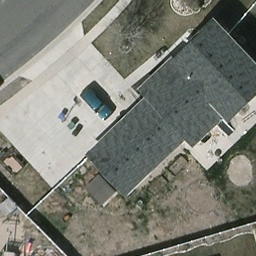car: (80, 88, 114, 120)
